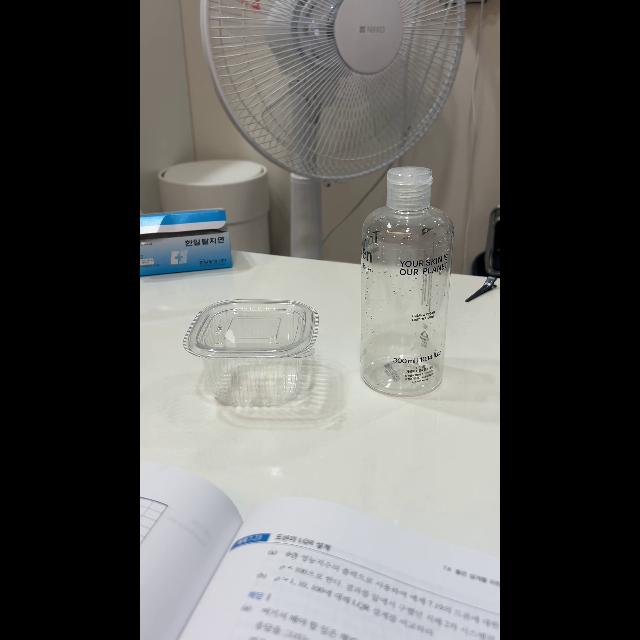clean: (360, 170, 454, 390), (182, 298, 320, 407)
